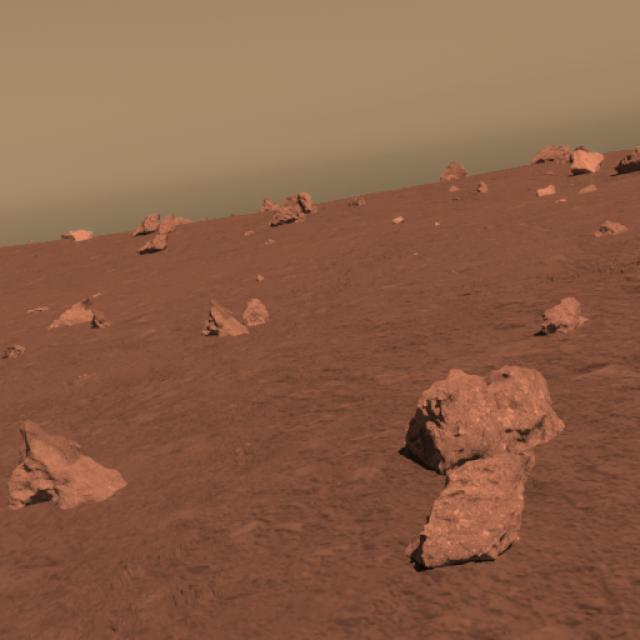rock: (407, 360, 562, 461), (410, 456, 530, 574), (0, 422, 138, 513)
